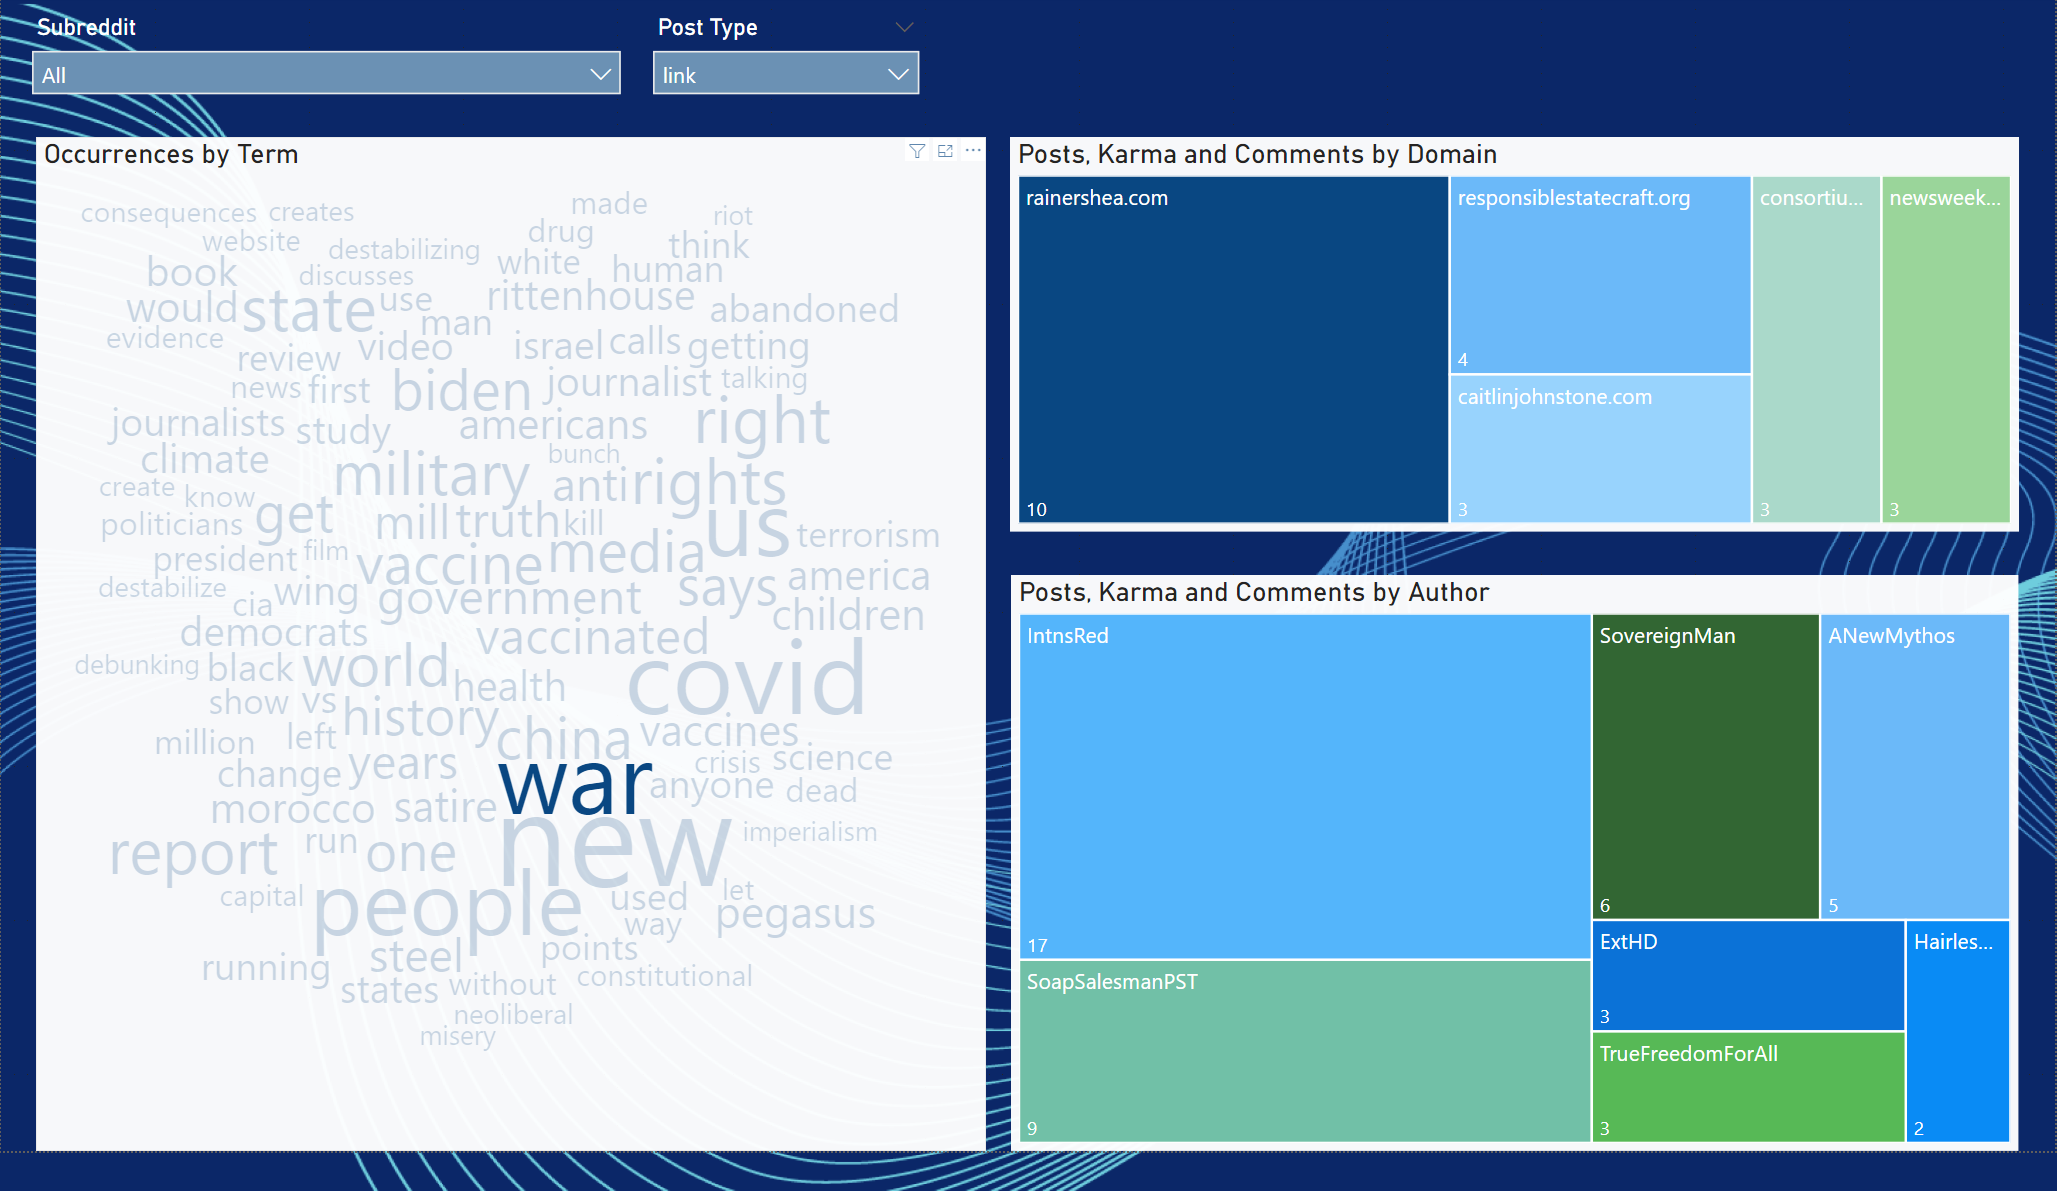

What the dashboard file says about the page in this screenshot:
{"tool":"powerbi","page":{"name":"Page 1","canvas":[1280,720],"ordinal":0},"visuals":[{"type":"WordCloud1447959067750","fields":{"Category":["author_terms.lowercase_term"],"Values":["author_terms.count"]},"box":[9.1,88,605.1,631.8],"z":0},{"type":"slicer","fields":{"Values":["all_posts.subreddit"]},"box":[9.1,6.5,387.3,81.5],"z":1000},{"type":"slicer","fields":{"Values":["all_posts.type"]},"box":[396.5,6.5,185.8,81.5],"z":2000},{"type":"treemap","fields":{"Group":["all_posts.author"],"Values":["all_posts.post_id"]},"box":[629.5,360.6,628.2,359.4],"z":3000},{"type":"treemap","fields":{"Group":["all_posts.domain"],"Values":["all_posts.post_id"]},"box":[629.2,88,628.6,245.8],"z":4000}]}

Visuals, with their boxes in screenshot pixels (x1, y1, x2, y2), scaled from the page's 1280x720 canvas onto the 2057x1191 screenshot:
WordCloud1447959067750 - author_terms.lowercase_term x author_terms.count: 15:146:987:1190
slicer - all_posts.subreddit: 15:11:637:146
slicer - all_posts.type: 637:11:936:146
treemap - all_posts.author x all_posts.post_id: 1012:596:2021:1190
treemap - all_posts.domain x all_posts.post_id: 1011:146:2021:552
